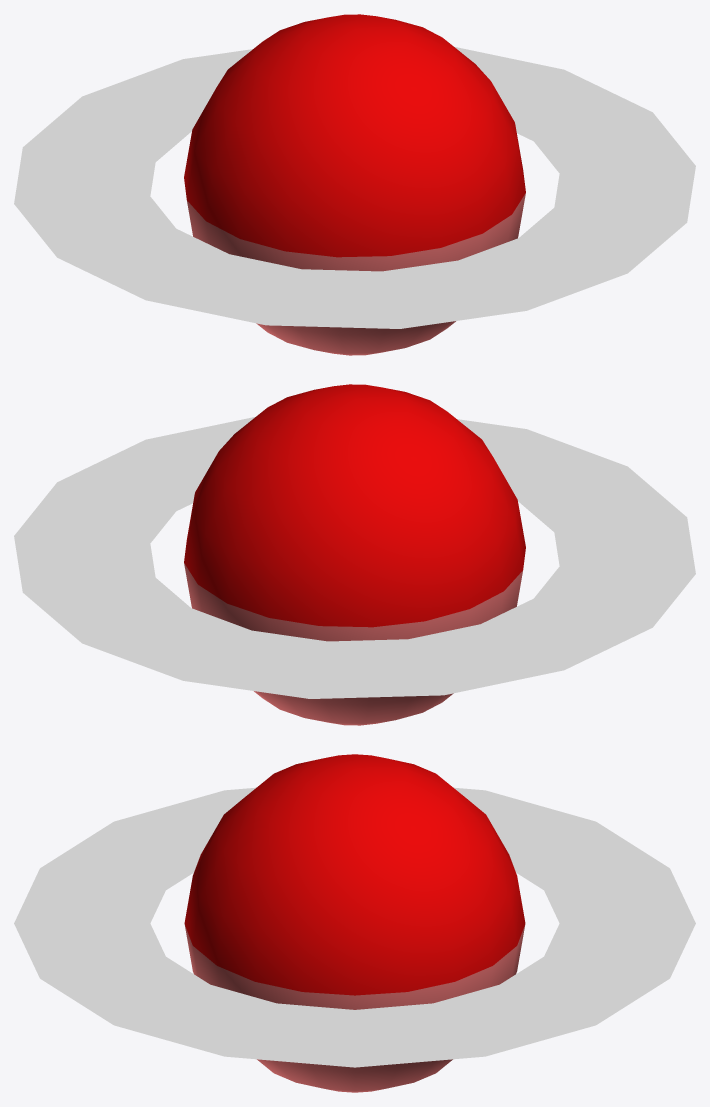
The model's file is ball.glb.
3 views of the same model, one above another, from view 1: azimuth 30°, elevation 25°; view 2: azimuth 150°, elevation 25°; view 3: azimuth 270°, elevation 25° (orthographic).
Parts seen in each view (by area): view 1: Ring, Ball; view 2: Ring, Ball; view 3: Ring, Ball.
Part boxes in pixels (<box>): Ring: <box>14,46,695,328</box>; Ball: <box>184,14,525,355</box>; Ring: <box>14,416,695,698</box>; Ball: <box>184,384,525,725</box>; Ring: <box>14,787,695,1067</box>; Ball: <box>184,754,525,1092</box>.
Bounding box in the file's own units: 2 × 1 × 2.
